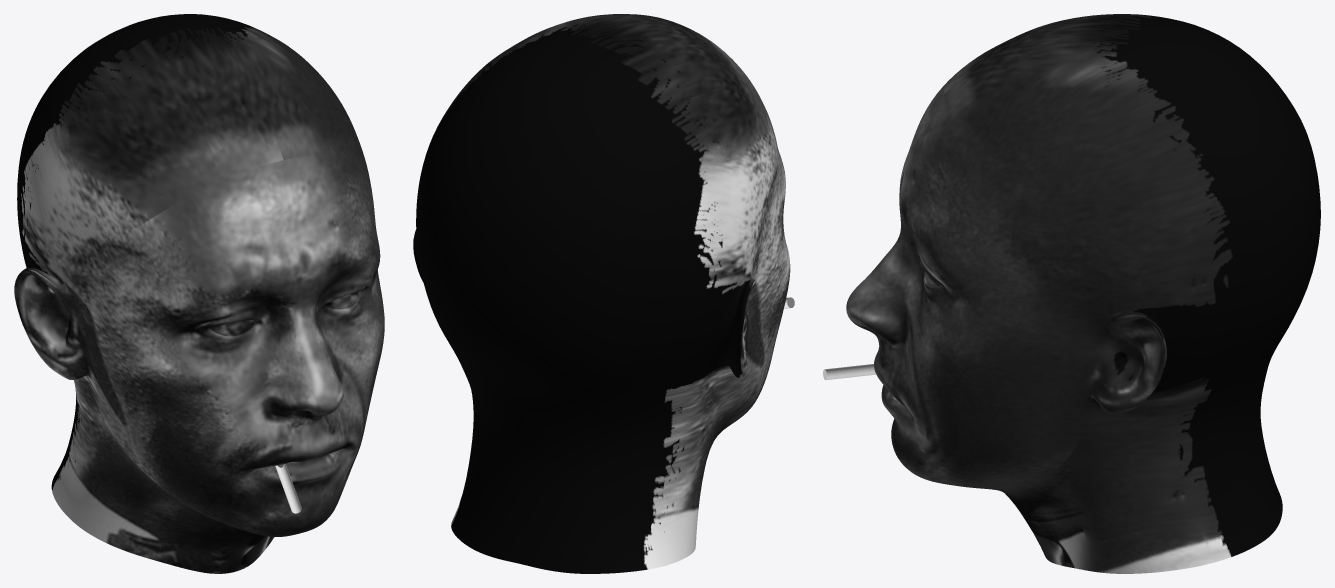
File: blakey.glb
The picture shows the model from 3 angles, left to right: view 1: azimuth 30°, elevation 25°; view 2: azimuth 150°, elevation 25°; view 3: azimuth 270°, elevation 25°; orthographic projection. The views are drawn at different scales.
Visible parts, largest first — view 1: FBHead.008; view 2: FBHead.008; view 3: FBHead.008.
Boxes of the visible parts, x1,y1,x2,y2 form: FBHead.008: [14, 14, 384, 573]; FBHead.008: [413, 14, 794, 573]; FBHead.008: [823, 14, 1320, 573].
Size of the model in its own units: 1.7 by 2.54 by 2.19.
Materials: 1 (1 with a texture image).
